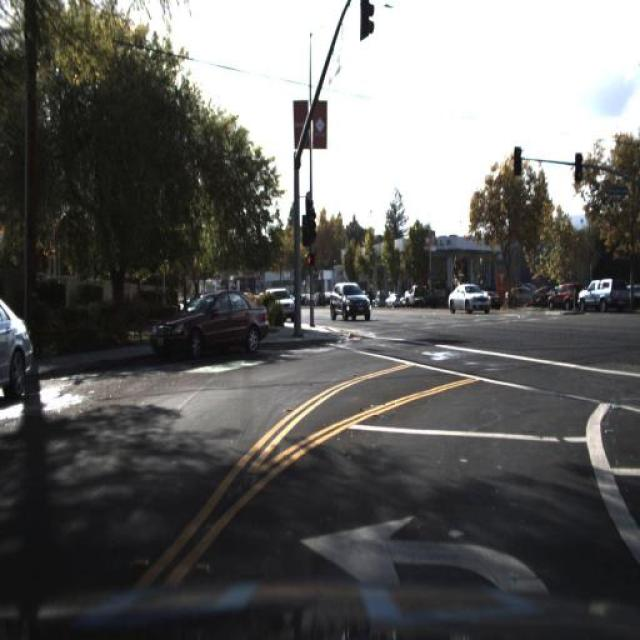car: (143, 284, 281, 372), (0, 290, 31, 404), (322, 268, 374, 330), (572, 273, 626, 315), (577, 271, 625, 314), (446, 278, 496, 318), (263, 280, 303, 326), (540, 276, 582, 318), (262, 284, 300, 327), (544, 280, 578, 316), (504, 282, 531, 310), (626, 280, 638, 304)
